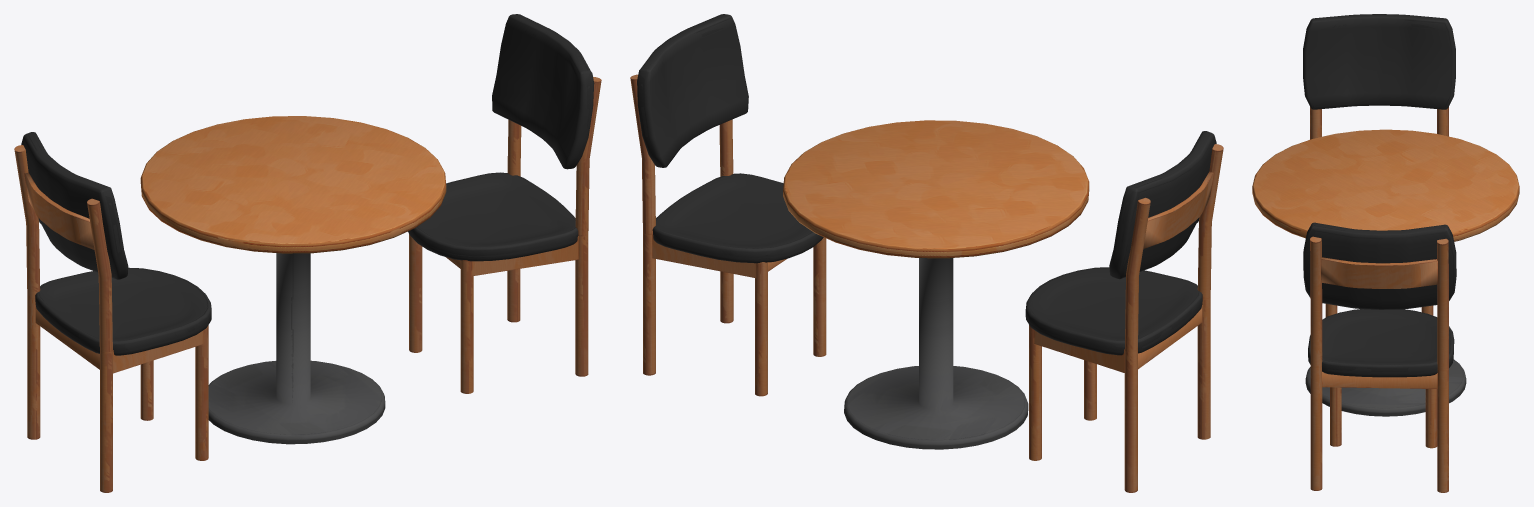
Rendered from chair_table.glb.
3 views of the same model, side by side, from view 1: azimuth 30°, elevation 25°; view 2: azimuth 150°, elevation 25°; view 3: azimuth 270°, elevation 25° (orthographic). The views are drawn at different scales.
Visible parts, largest first — view 1: Cylinder.022, Cylinder.021, Cylinder.020; view 2: Cylinder.022, Cylinder.021, Cylinder.020; view 3: Cylinder.021, Cylinder.022, Cylinder.020.
Part boxes in pixels (x1,y1,x2,y2): Cylinder.022: [140, 116, 446, 444]; Cylinder.021: [408, 14, 601, 393]; Cylinder.020: [14, 132, 211, 492]; Cylinder.022: [783, 120, 1089, 449]; Cylinder.021: [630, 14, 826, 396]; Cylinder.020: [1025, 131, 1223, 492]; Cylinder.021: [1303, 222, 1456, 492]; Cylinder.022: [1252, 129, 1519, 416]; Cylinder.020: [1303, 14, 1455, 317].
Size of the model in its own units: 1.68 by 0.9296 by 0.8489.
Materials: 4 (4 with a texture image).
